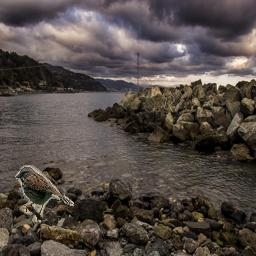Sparrow: (16, 166, 75, 223)
